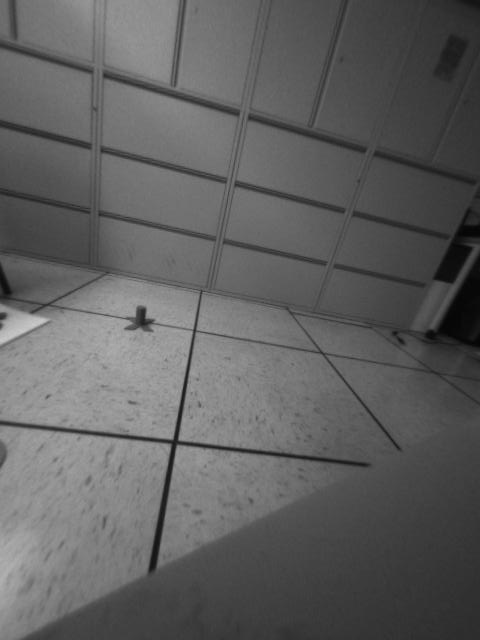X: (124, 304, 158, 335)
